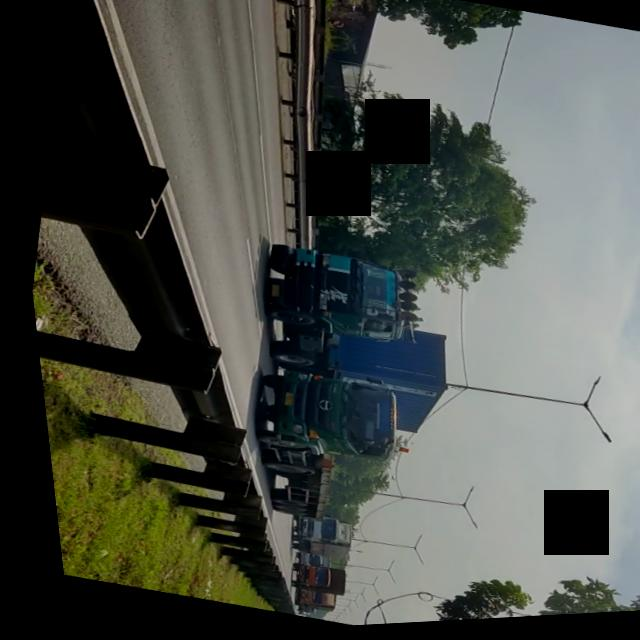Golongan V: (221, 356, 420, 546)
